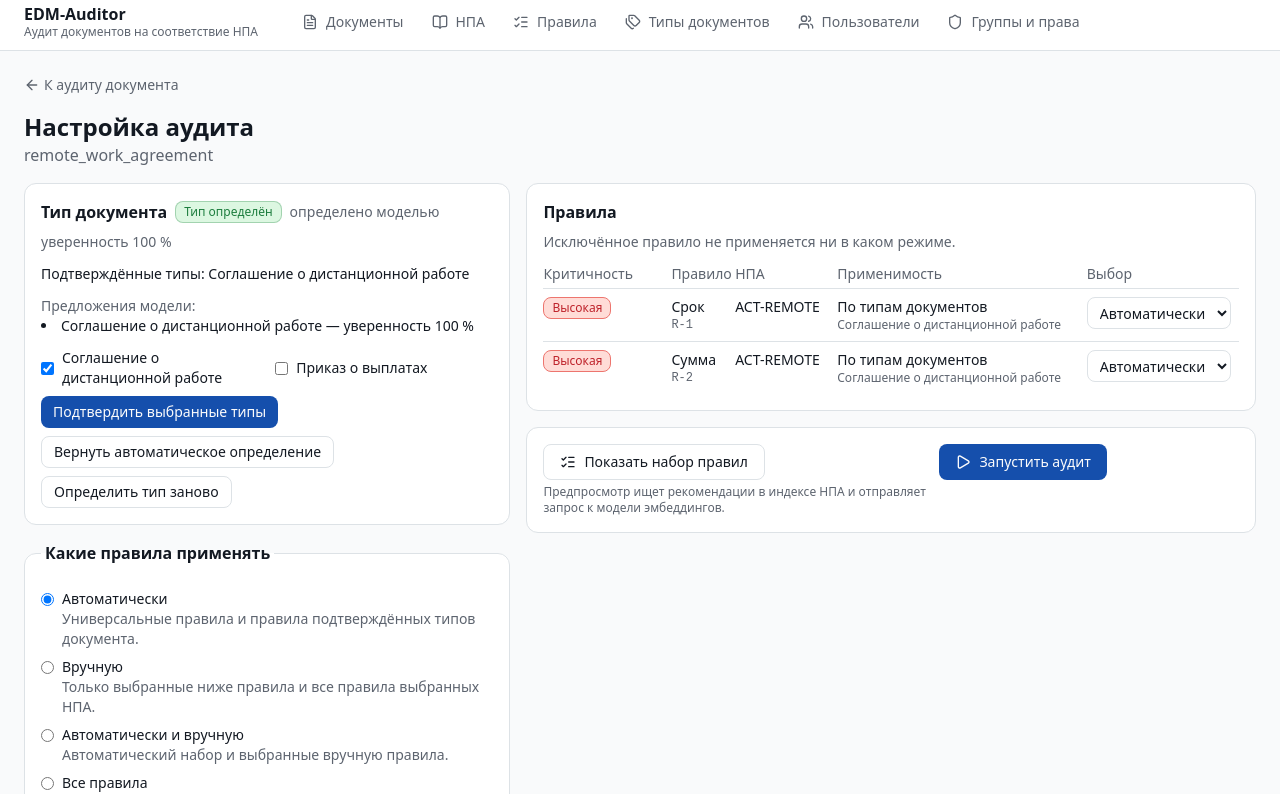
Scenario: audit configuration › previews and runs a manual selection with included and excluded rules
Click the radio button labelled "Вручную".
click(48, 668)  # box [41, 661, 54, 674]
(page scrolled)
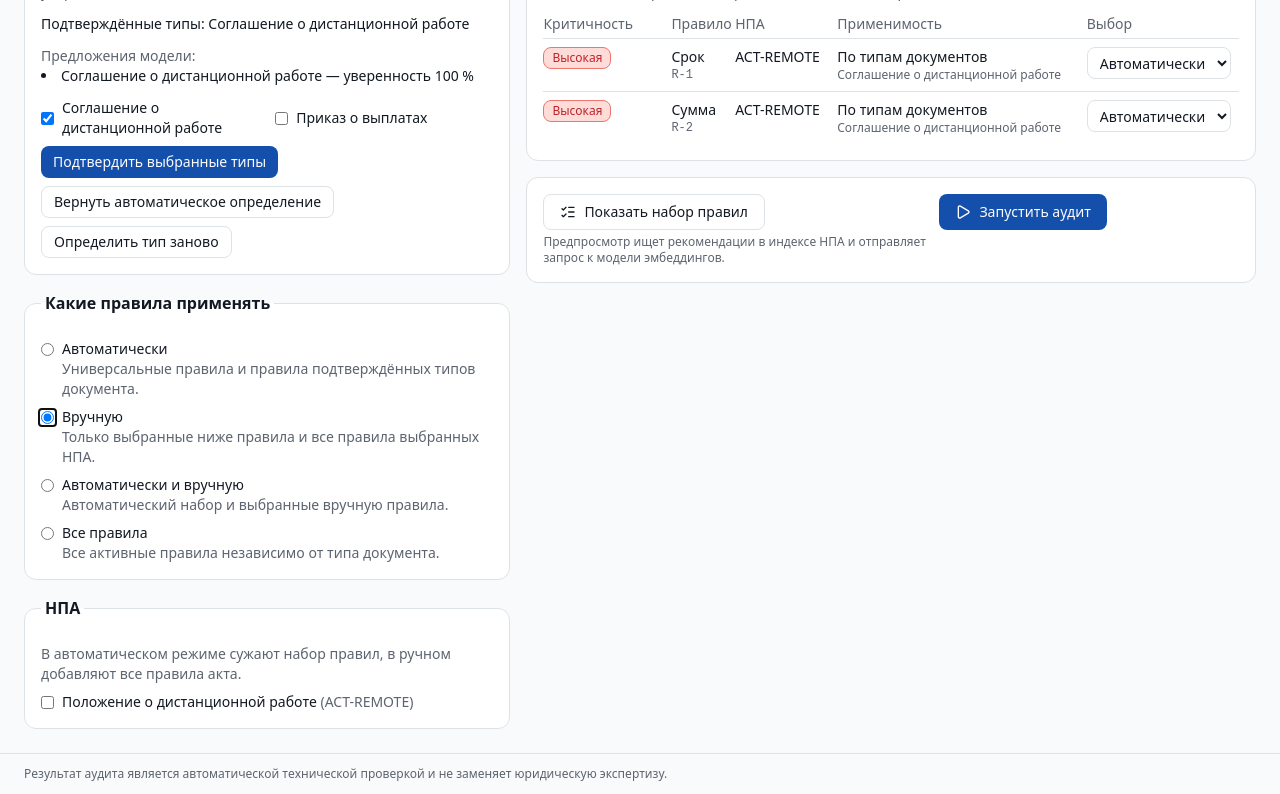
Click the checkbox labelled "Положение о дистанционной работе (ACT-REMOTE)".
click(48, 702)  # box [41, 696, 54, 708]
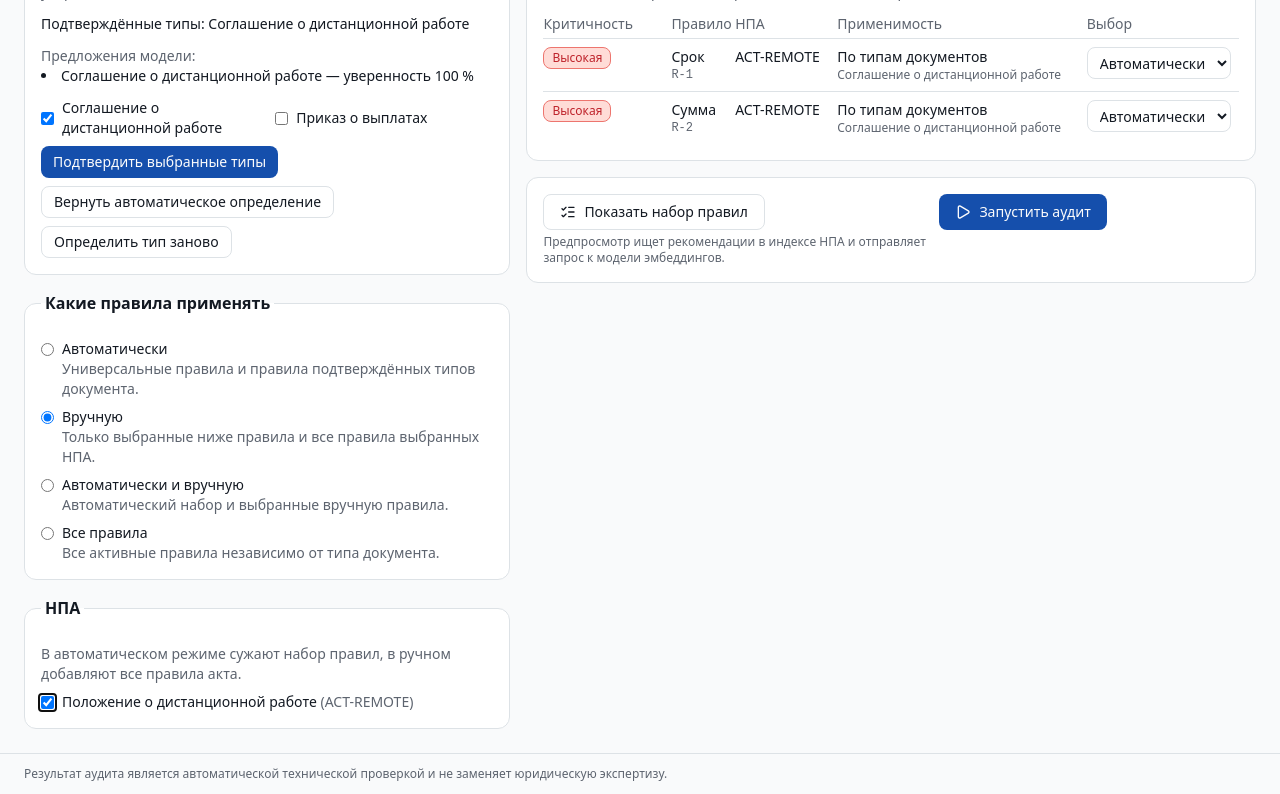
Select "Включить" in the dropdown named "Выбор: Срок" at coordinates (1159, 63), box [1087, 47, 1231, 79]
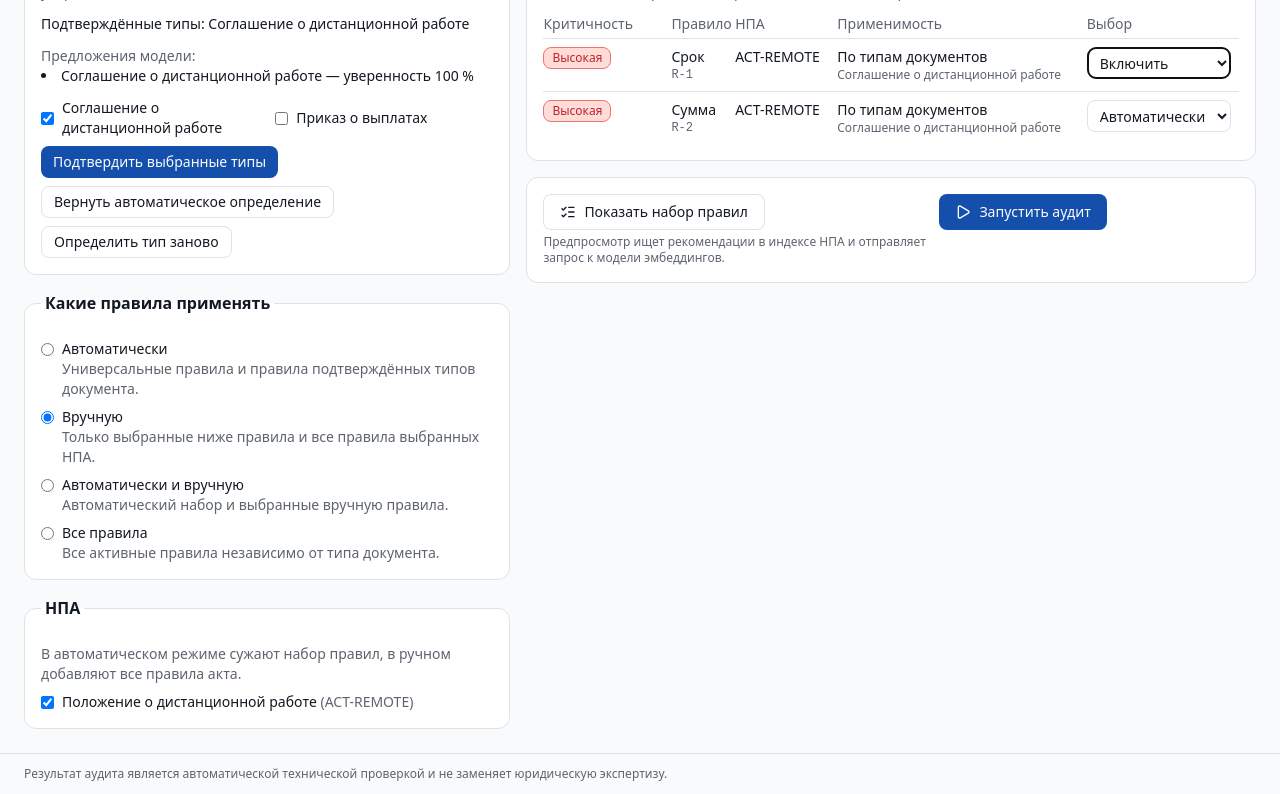
Select "Исключить" in the dropdown named "Выбор: Сумма" at coordinates (1159, 116), box [1087, 100, 1231, 132]
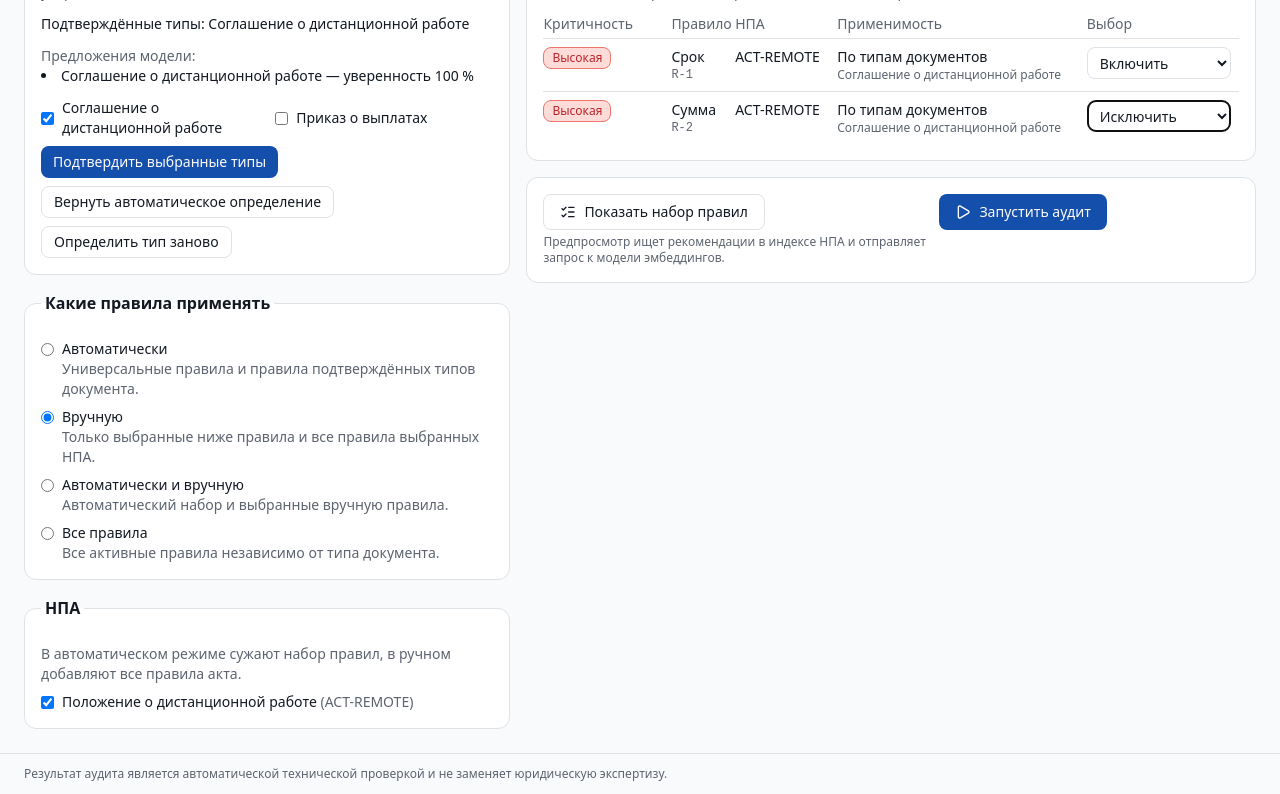
Click the button "Показать набор правил".
click(654, 212)  # box [543, 194, 765, 230]
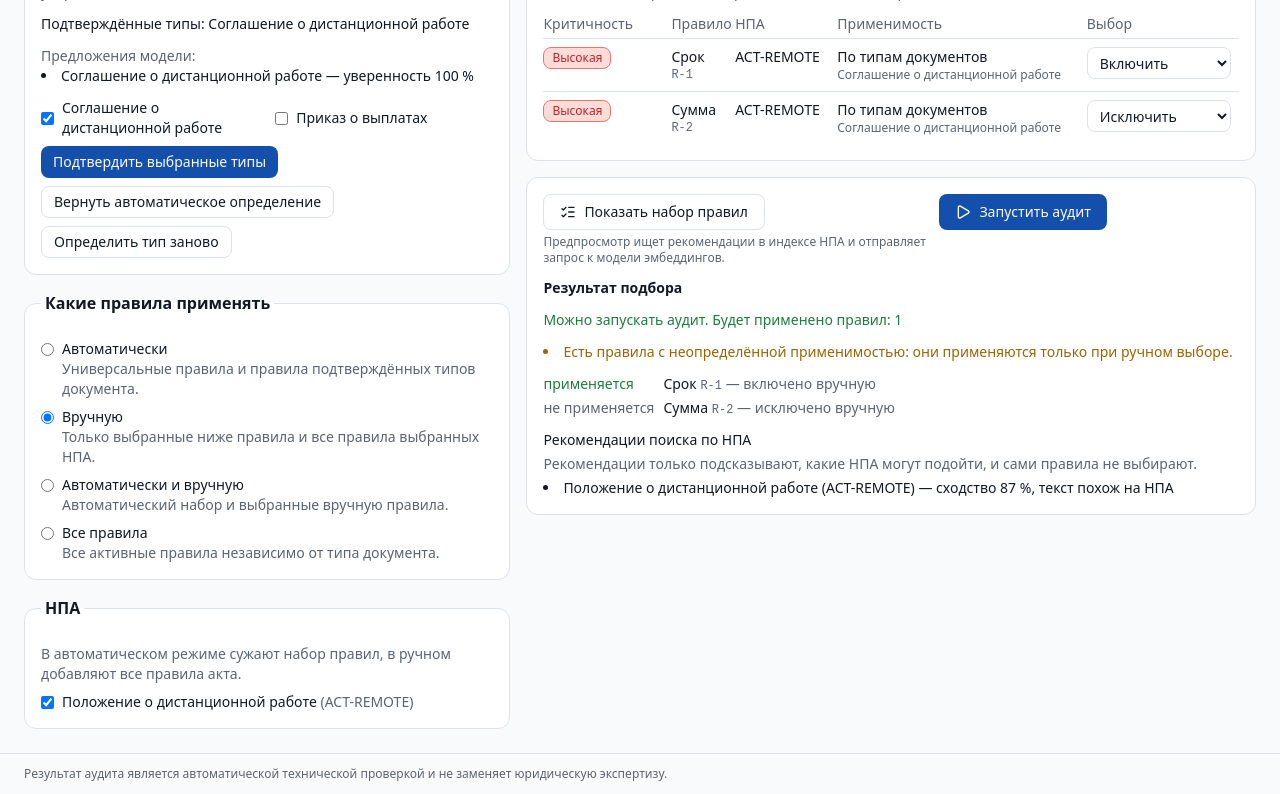
expect the text "Можно запускать аудит. Будет применено правил: 1" is shown: met, box [543, 310, 902, 329]
expect the text "— исключено вручную" is shown: met, box [733, 398, 895, 417]
expect the list item "Есть правила с неопределённой применимостью" is shown: met, box [563, 342, 1233, 361]
Click the button "Запустить аудит".
click(1023, 212)  # box [939, 194, 1107, 230]
(page scrolled)
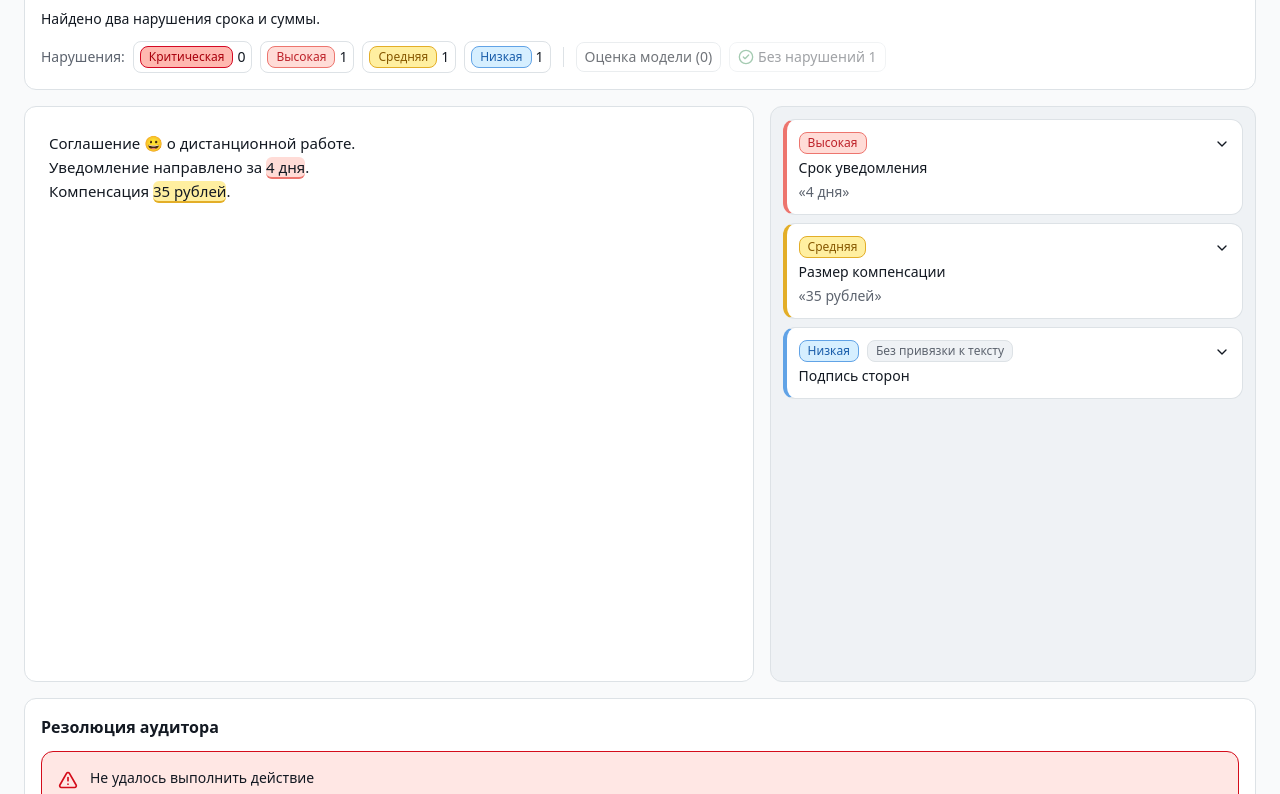
expect the element named "Текст документа" is shown: met, box [24, 106, 754, 682]
